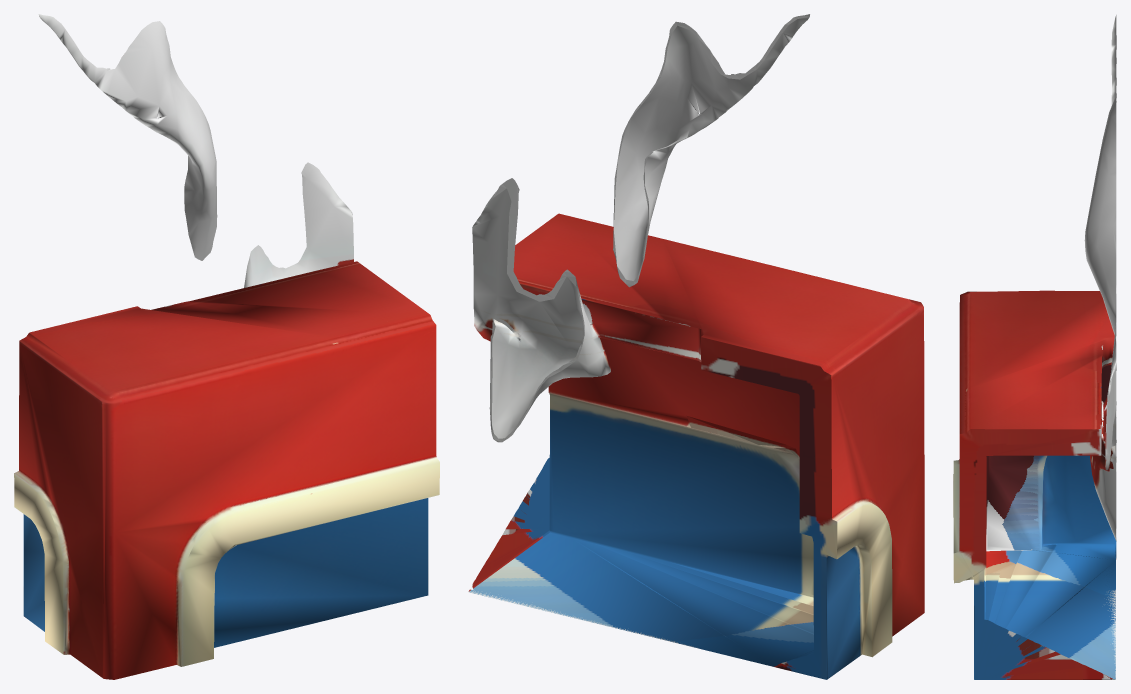
File: 13-topper-front-left.fbx
The picture shows the model from 3 angles, left to right: view 1: azimuth 30°, elevation 25°; view 2: azimuth 150°, elevation 25°; view 3: azimuth 270°, elevation 25°; orthographic projection. The views are drawn at different scales.
Visible parts, largest first — view 1: topper-front-left; view 2: topper-front-left; view 3: topper-front-left.
Boxes of the visible parts, bbox=[...] form: topper-front-left: bbox=[14, 14, 439, 679]; topper-front-left: bbox=[468, 14, 924, 679]; topper-front-left: bbox=[953, 15, 1116, 679].
Bounding box in the file's own units: 4683 × 8001 × 2227.
Materials: 1 (1 with a texture image).
